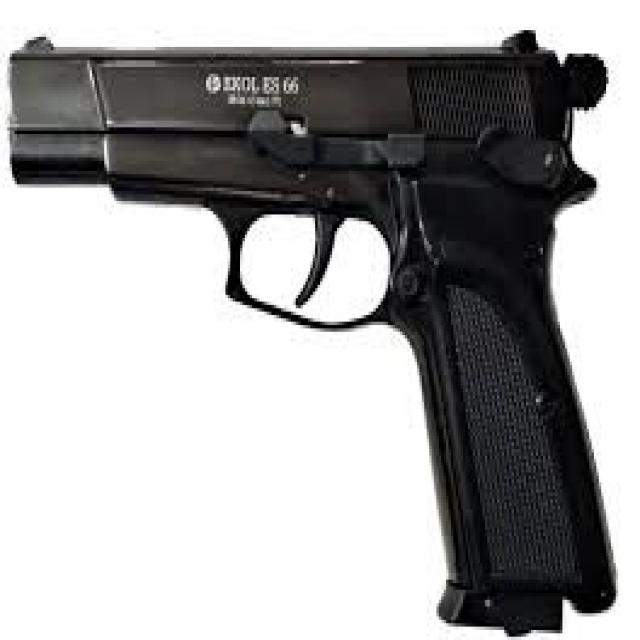pistol: (2, 26, 626, 640)
